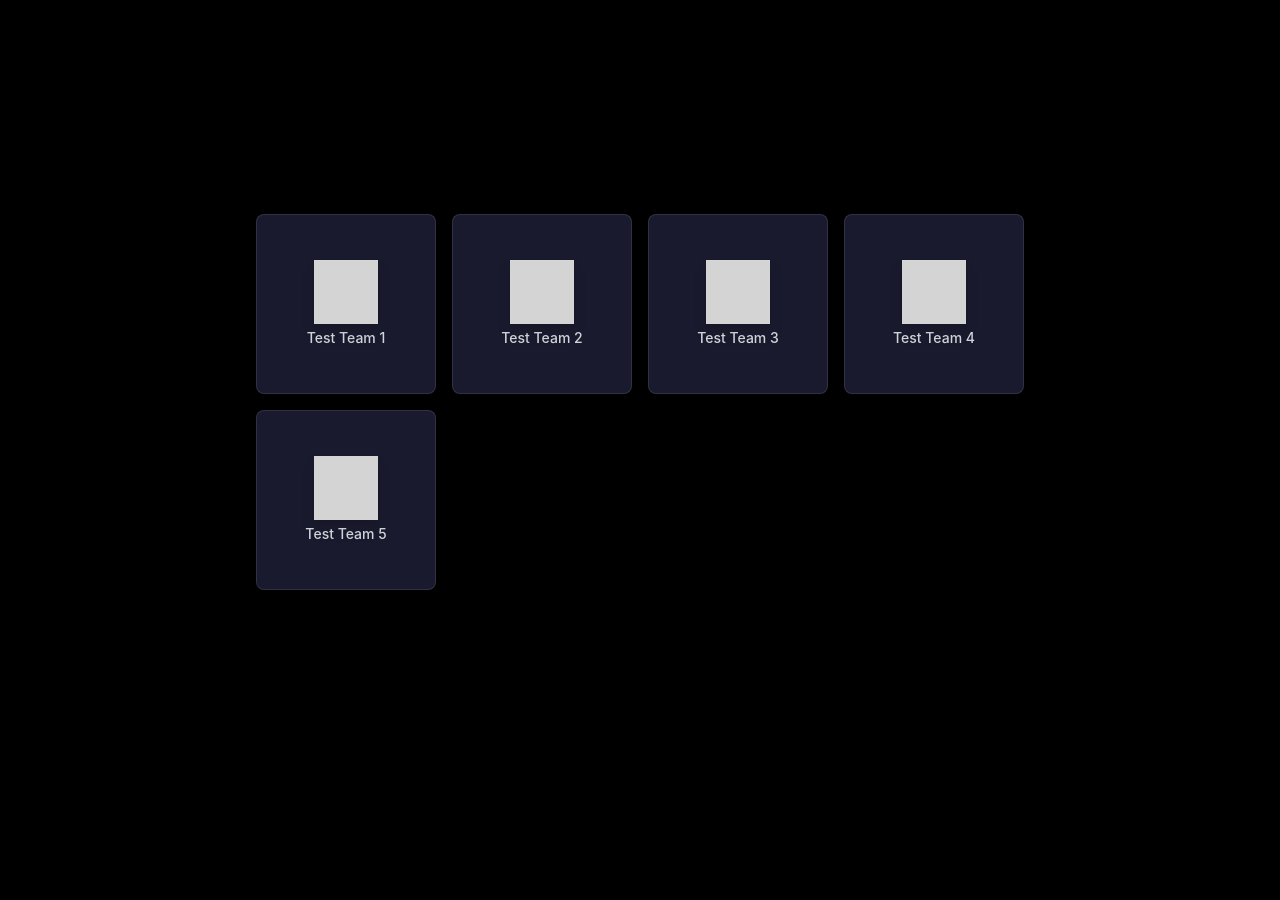
Test: TeamSection 响应式布局 › 弹框宽度响应式 › PC端弹框打开
Check: the element with test id "teams-grid" is shown, box [256, 214, 1024, 590]
Click the element with test id "team-card".
click(346, 304)  # box [256, 214, 436, 394]
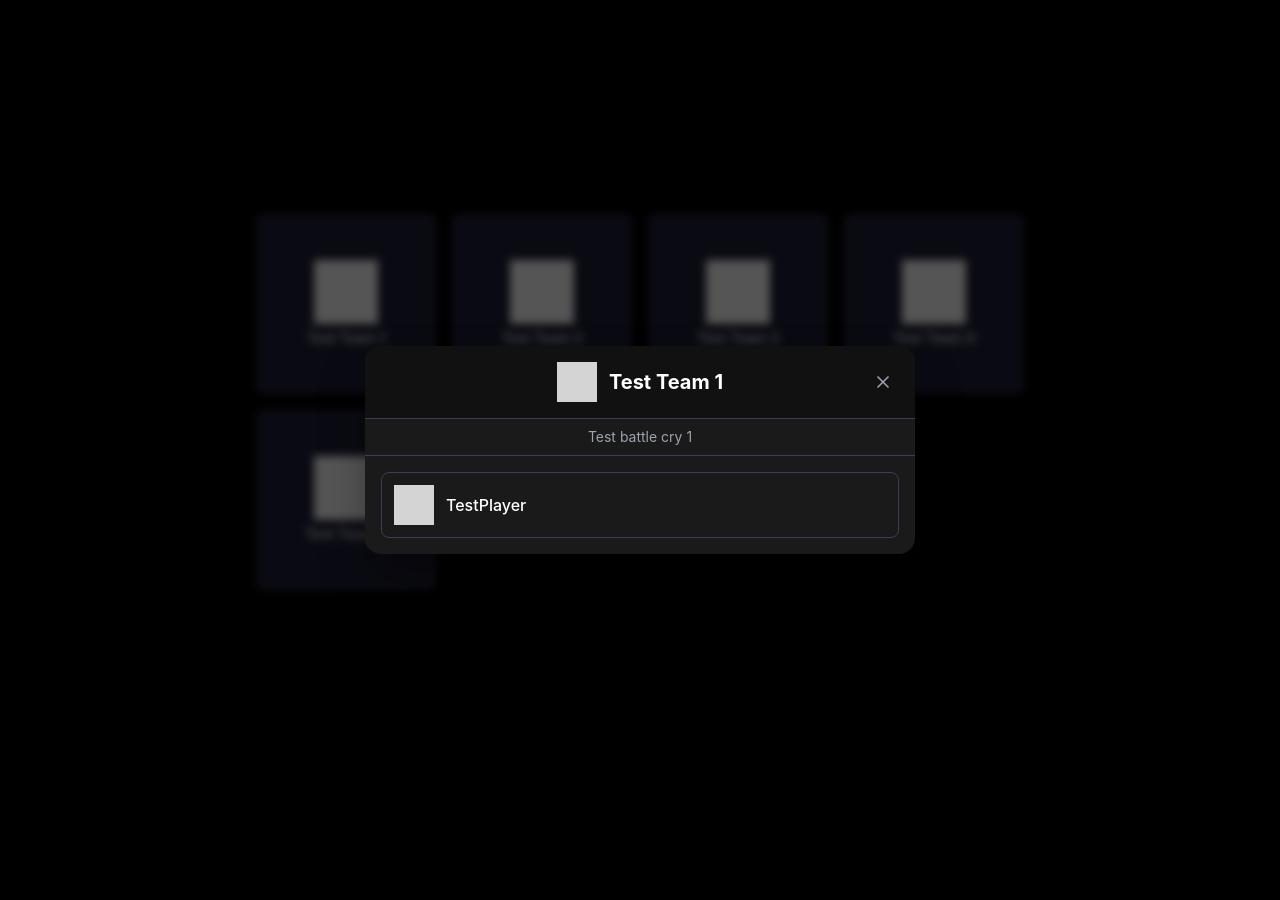
Check: the dialog with test id "team-member-modal" is shown
